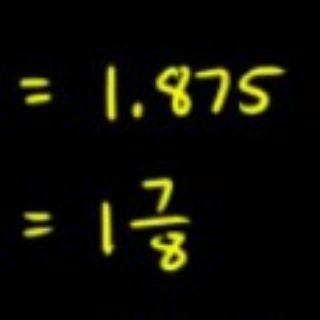.: (131, 101, 145, 119)
1: (96, 60, 122, 124), (100, 194, 116, 255)
5: (235, 62, 288, 116)
7: (194, 62, 232, 116), (140, 174, 176, 214)
8: (153, 63, 196, 118), (149, 231, 190, 272)
